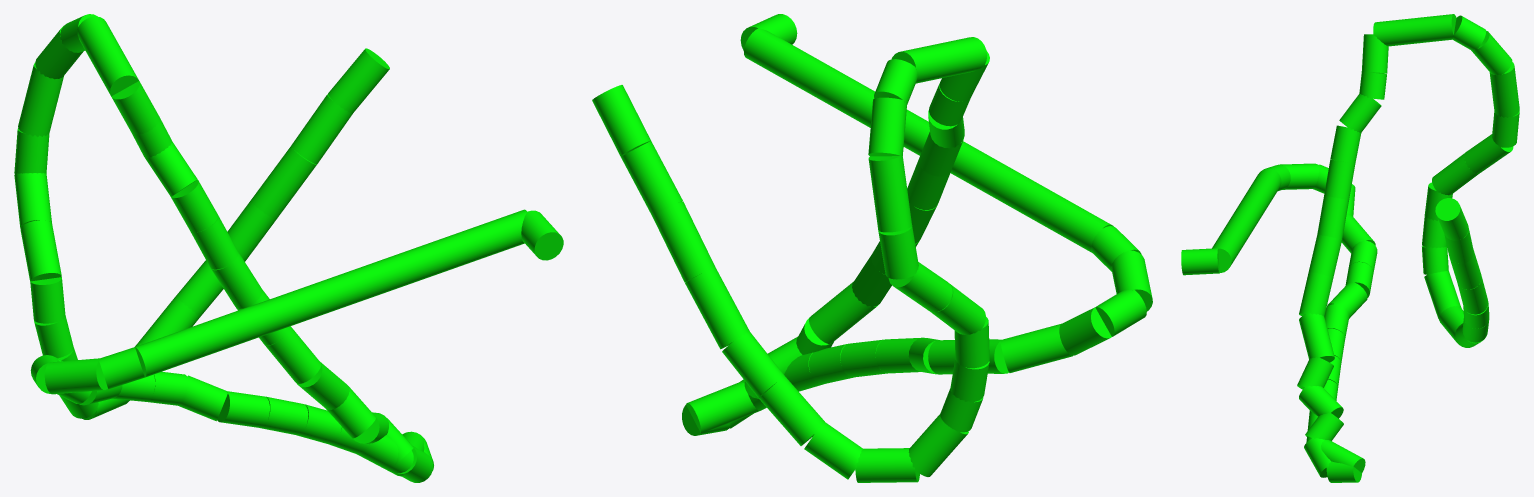
3 views of the same model, side by side, from view 1: azimuth 30°, elevation 25°; view 2: azimuth 150°, elevation 25°; view 3: azimuth 270°, elevation 25° (orthographic). The views are drawn at different scales.
Visible parts, largest first — view 1: Cylinder(Clone) (×37); view 2: Cylinder(Clone) (×42); view 3: Cylinder(Clone) (×42).
Boxes of the visible parts, bbox=[...] form: Cylinder(Clone) (×37): bbox=[14, 14, 563, 482]; Cylinder(Clone) (×42): bbox=[592, 14, 1152, 482]; Cylinder(Clone) (×42): bbox=[1181, 14, 1519, 482].
Size of the model in its own units: 0.1588 by 0.1606 by 0.1329.
